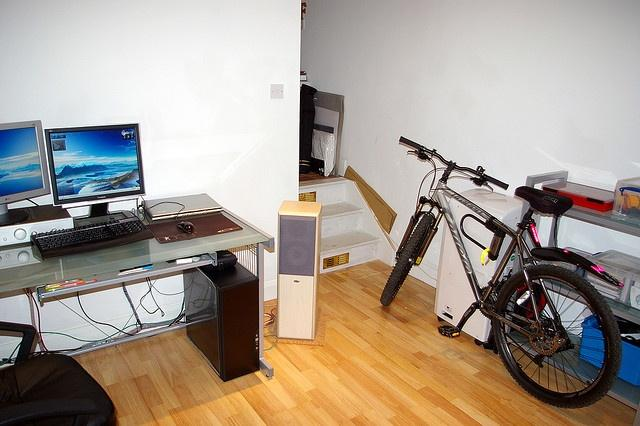AIO PC-Monitor-TV: (43, 121, 146, 208), (0, 118, 50, 206)
